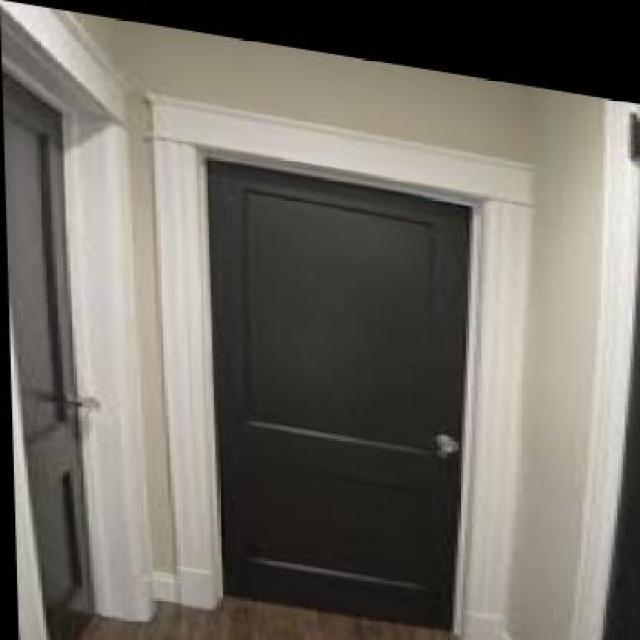door: (185, 154, 475, 631)
